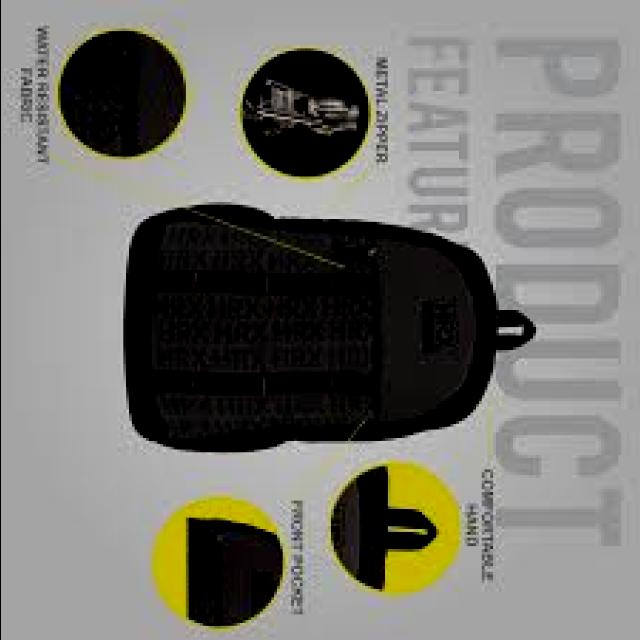backpack: (127, 203, 539, 453)
